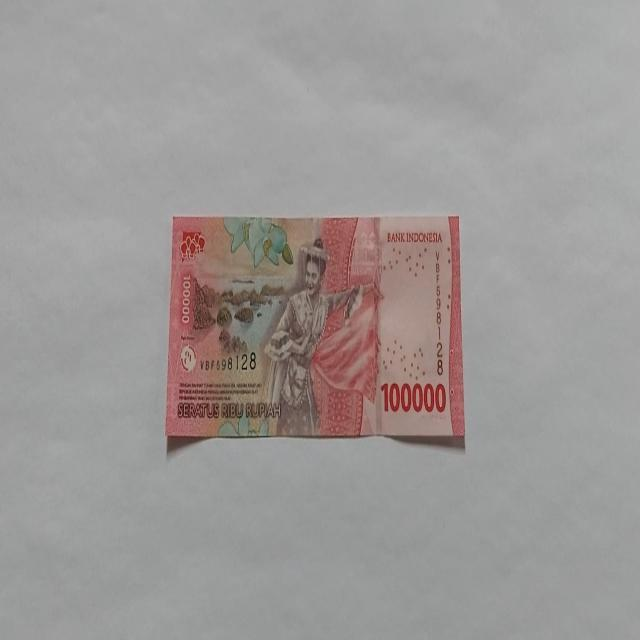seratus ribu rupiah: (164, 214, 466, 444), (260, 237, 360, 436)
